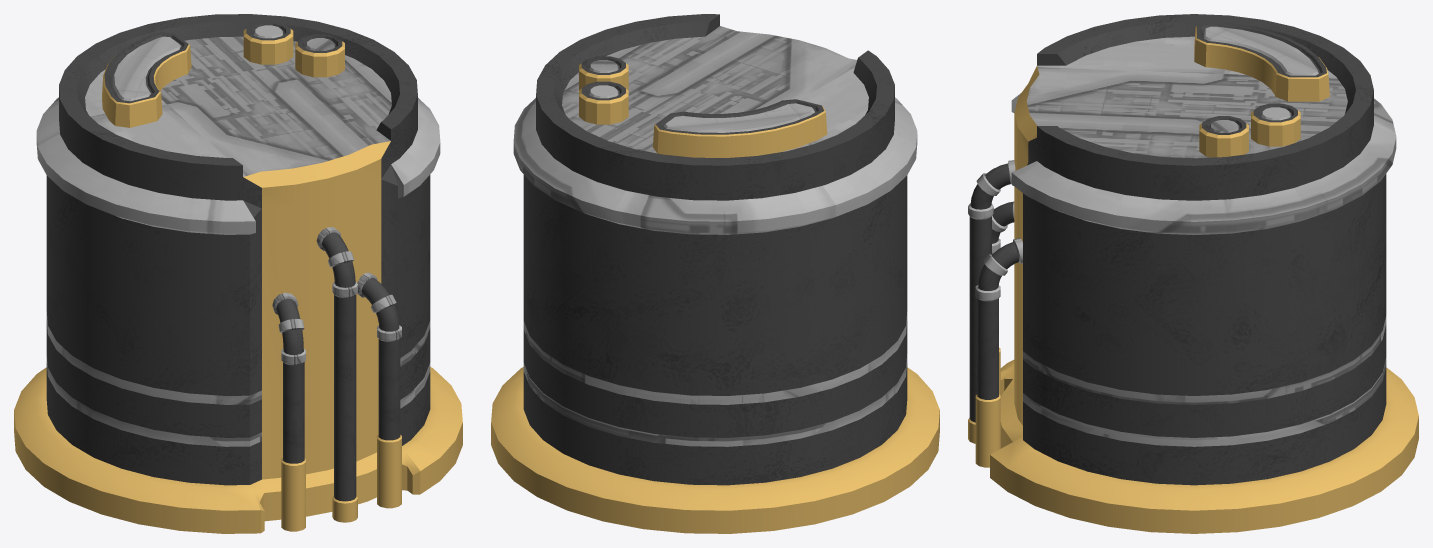
The model's file is NB_silo_1.fbx.
The picture shows the model from 3 angles, left to right: view 1: azimuth 30°, elevation 25°; view 2: azimuth 150°, elevation 25°; view 3: azimuth 270°, elevation 25°; orthographic projection.
Visible parts, largest first — view 1: NB_silo_1; view 2: NB_silo_1; view 3: NB_silo_1.
Part boxes in pixels (left/top/right/bottom): NB_silo_1: left=14, top=14, right=462, bottom=533; NB_silo_1: left=491, top=14, right=939, bottom=533; NB_silo_1: left=968, top=14, right=1418, bottom=533.
Bounding box in the file's own units: 350 × 310 × 351.
